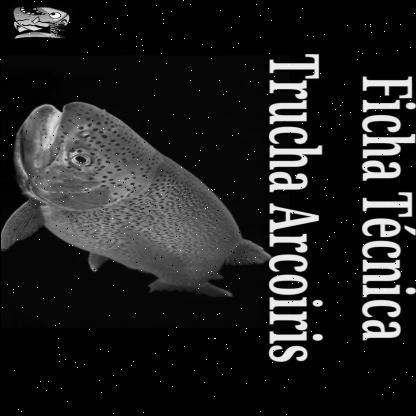fish: (2, 100, 276, 302)
